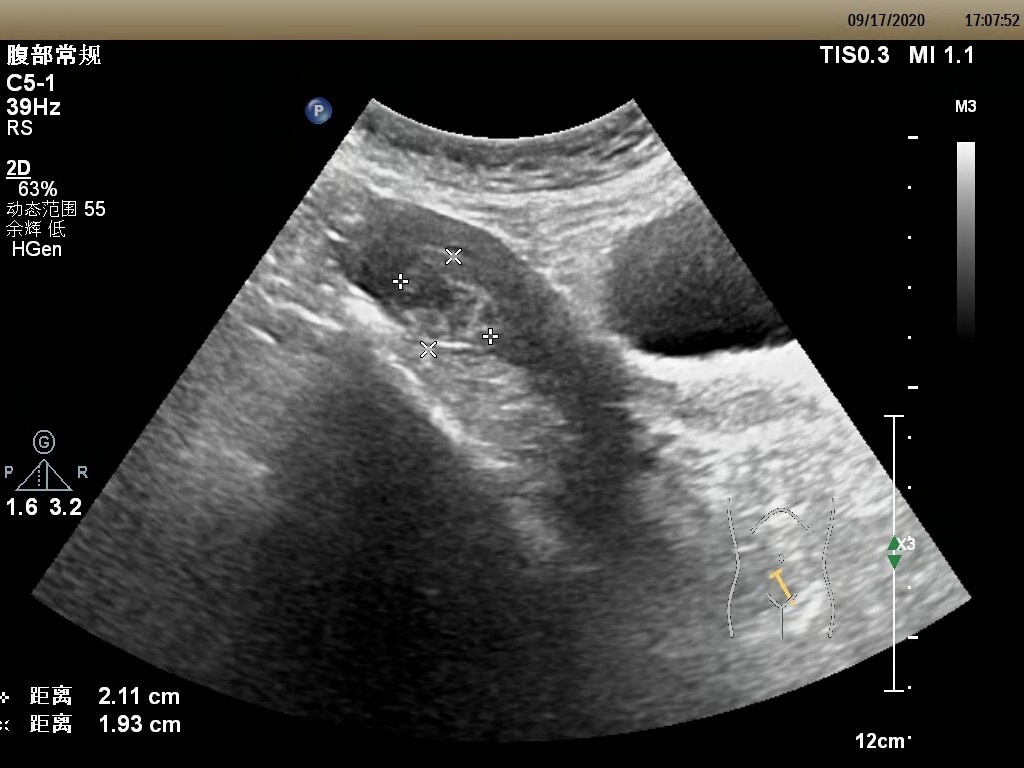肌瘤: (400, 255, 492, 352)
